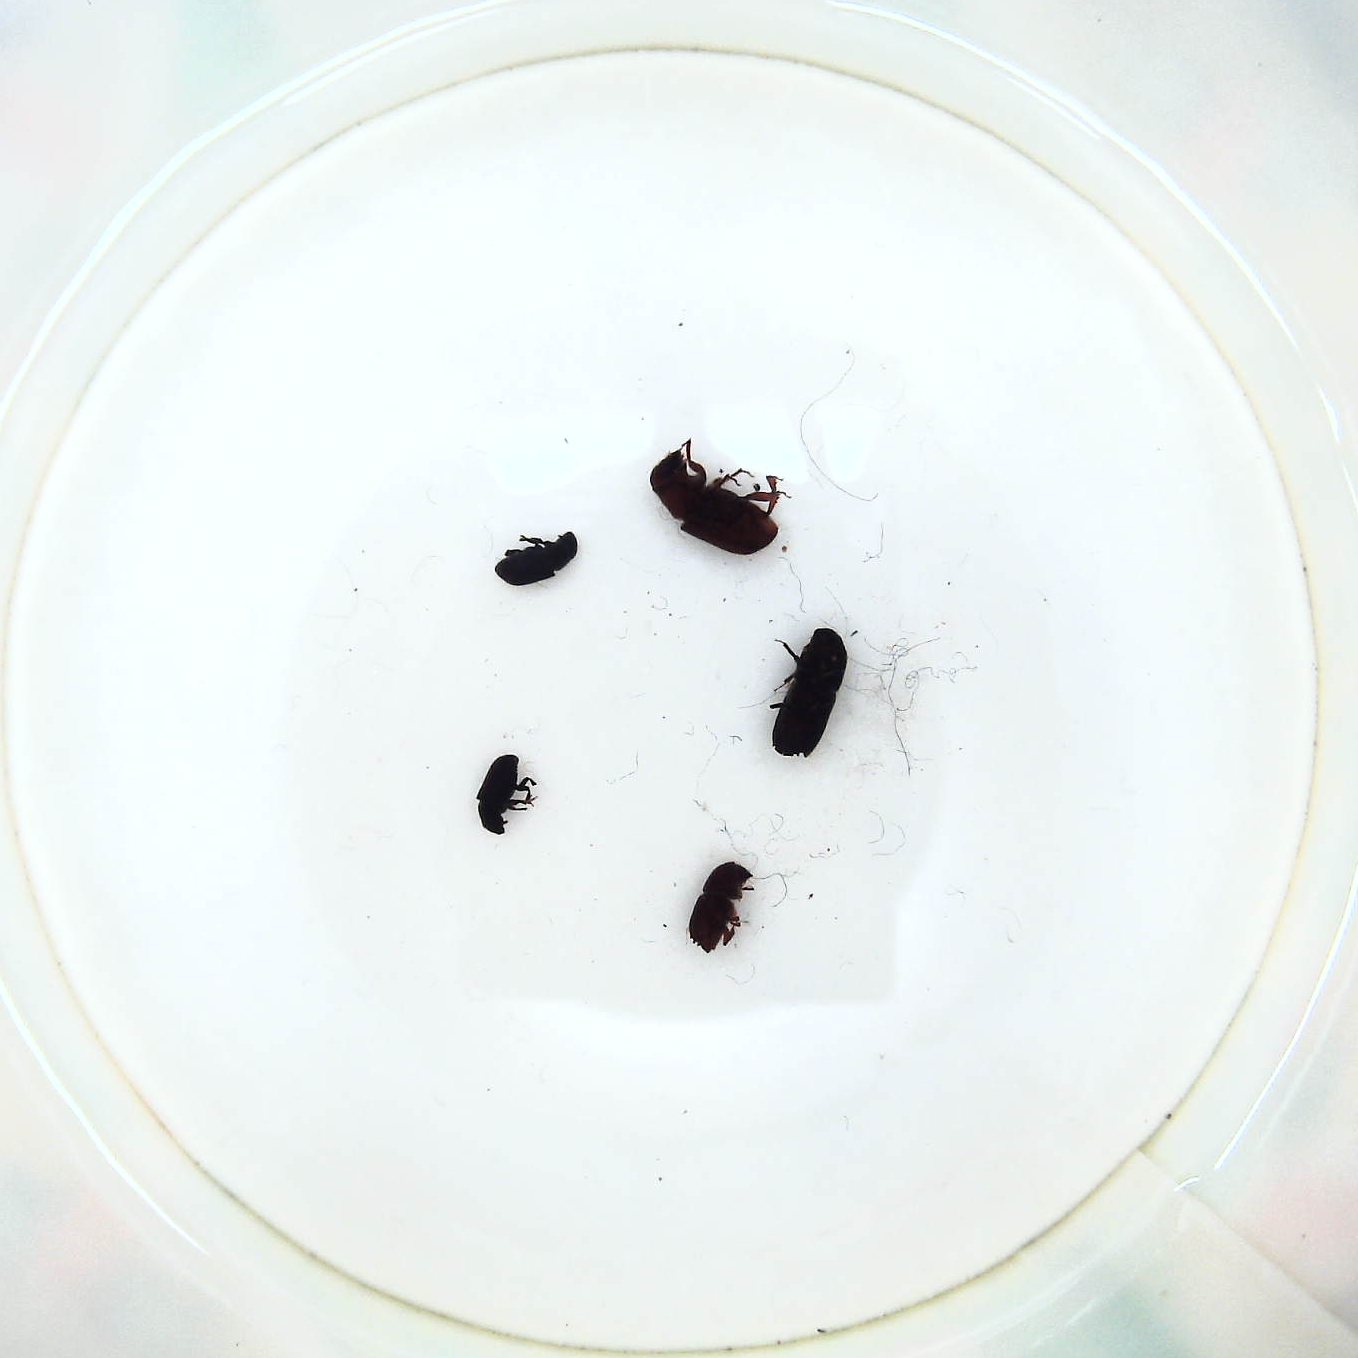Boerner: (769, 621, 861, 765)
Leconte: (644, 436, 785, 556)
armandi: (495, 526, 588, 589)
coleoptera: (475, 754, 536, 843)
linnaeus: (690, 858, 759, 953)
